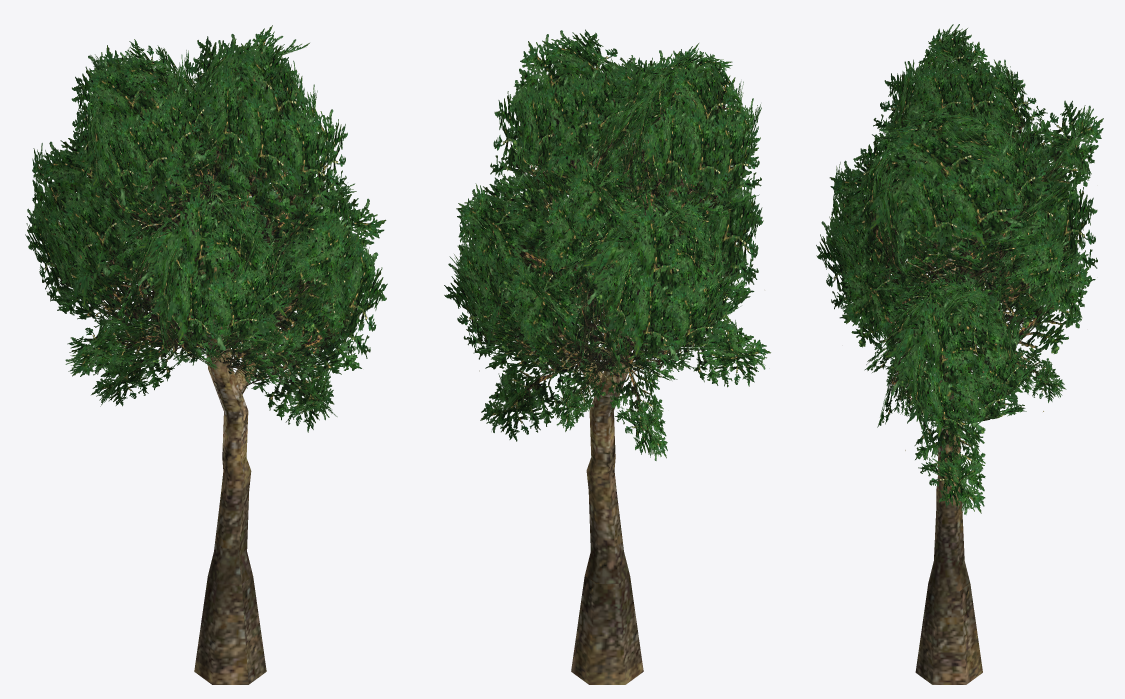
Rendered from aleppo_pine_6.glb.
3 views of the same model, side by side, from view 1: azimuth 30°, elevation 25°; view 2: azimuth 150°, elevation 25°; view 3: azimuth 270°, elevation 25° (orthographic). The views are drawn at different scales.
Size of the model in its own units: 13.94 by 26.68 by 12.06.
1 material, 1 textured.
